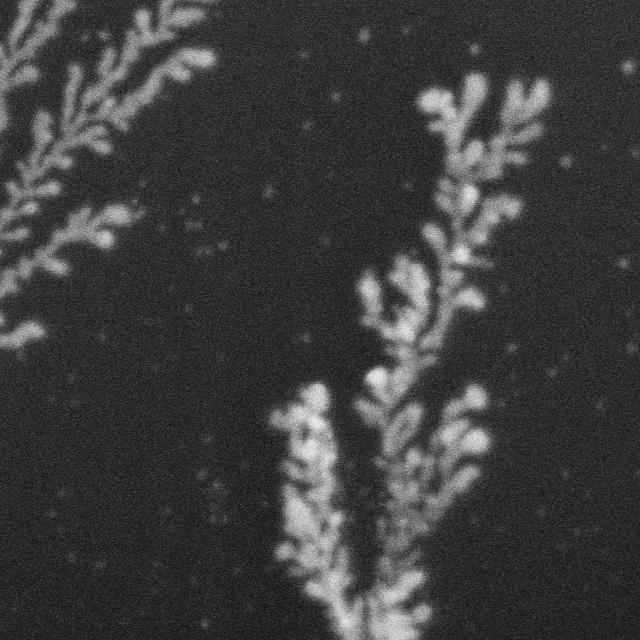Dendrite: (251, 72, 550, 640), (0, 0, 218, 354), (0, 0, 83, 144)
